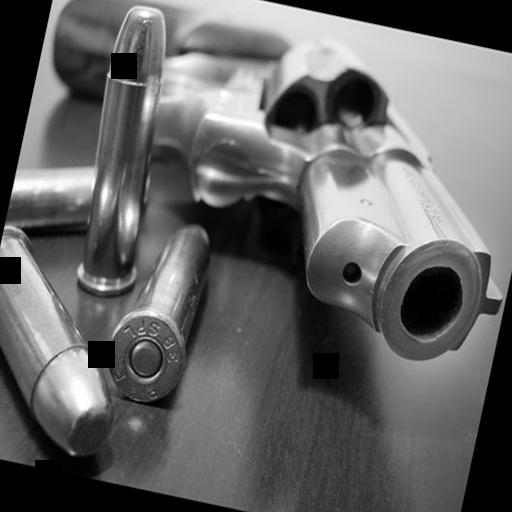Handgun: (1, 0, 512, 382)
